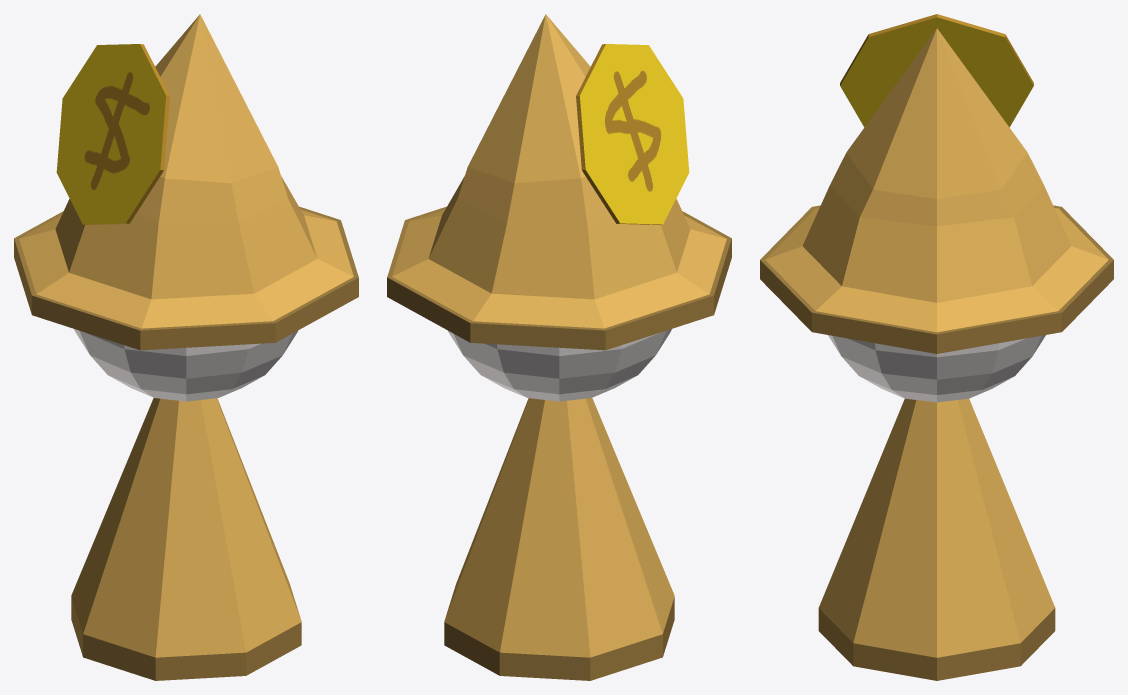
Rendered from coincaster.fbx.
The picture shows the model from 3 angles, left to right: view 1: azimuth 30°, elevation 25°; view 2: azimuth 150°, elevation 25°; view 3: azimuth 270°, elevation 25°; orthographic projection.
Parts seen in each view (by area): view 1: Cylinder.002, Cylinder, Cylinder.003, Cylinder.001, Sphere; view 2: Cylinder.002, Cylinder, Cylinder.003, Cylinder.001, Sphere; view 3: Cylinder.002, Cylinder, Cylinder.003, Cylinder.001, Sphere.
Boxes of the visible parts, x1,y1,x2,y2 form: Cylinder.002: [19, 14, 353, 328]; Cylinder: [71, 398, 301, 680]; Cylinder.003: [56, 44, 169, 224]; Cylinder.001: [14, 206, 358, 350]; Sphere: [74, 329, 298, 401]; Cylinder.002: [392, 14, 726, 328]; Cylinder: [444, 398, 674, 680]; Cylinder.003: [576, 44, 689, 224]; Cylinder.001: [387, 206, 731, 350]; Sphere: [447, 329, 671, 401]; Cylinder.002: [765, 28, 1108, 332]; Cylinder: [818, 398, 1055, 680]; Cylinder.003: [840, 14, 1033, 127]; Cylinder.001: [760, 205, 1113, 353]; Sphere: [828, 335, 1045, 402].
Size of the model in its own units: 44.43 by 84.47 by 44.43.
